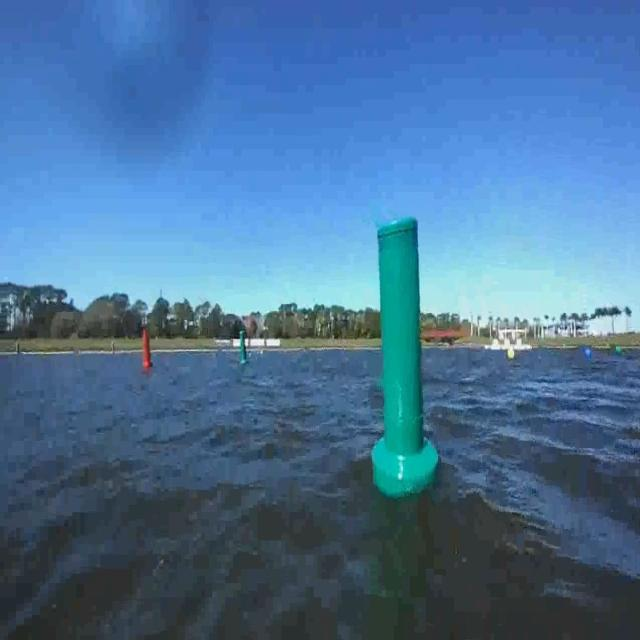blue-buoy: (585, 346, 594, 362)
green-buoy: (616, 345, 623, 357)
green-column-buoy: (367, 216, 437, 502), (236, 330, 248, 366)
red-column-buoy: (141, 329, 153, 371)
yellow-buoy: (506, 348, 514, 362)
